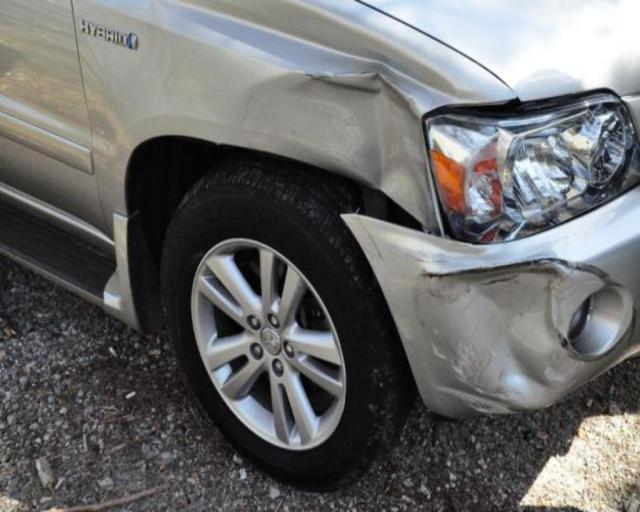dent: (418, 252, 616, 412), (233, 72, 436, 222)
lamp broken: (427, 94, 639, 245)
scratch: (426, 330, 500, 401), (399, 245, 459, 272)
